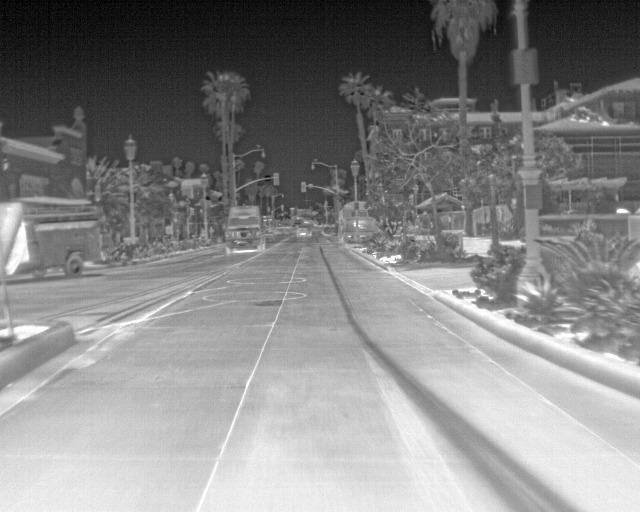car: (0, 196, 102, 279), (224, 205, 265, 253), (340, 200, 378, 242), (296, 224, 312, 238)
light: (274, 173, 279, 185), (301, 182, 306, 192), (281, 205, 283, 211)
sign: (513, 49, 538, 83), (526, 185, 541, 210)
